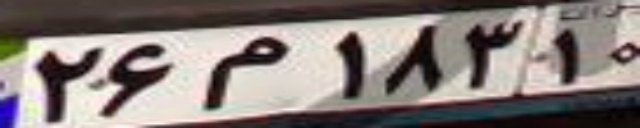0: (604, 40, 639, 64)
1: (334, 31, 362, 99), (551, 28, 581, 84)
2: (33, 45, 101, 123)
3: (465, 20, 521, 88)
6: (103, 42, 175, 119)
8: (383, 24, 444, 94)
mim: (197, 34, 288, 110)
